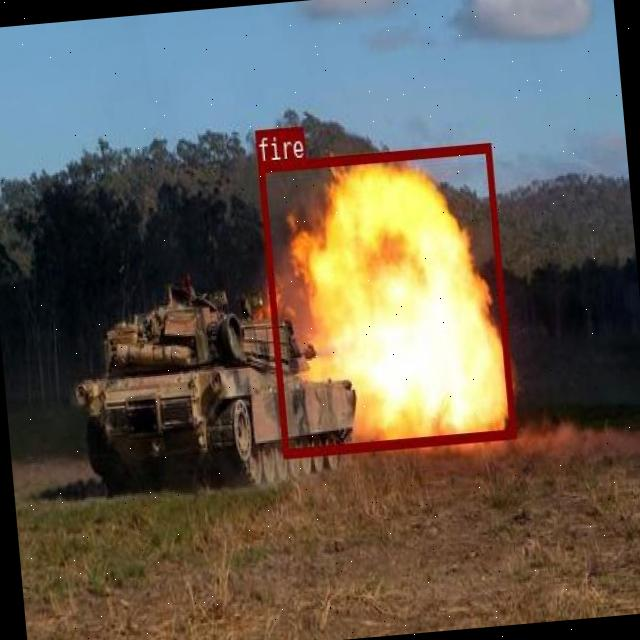fire: (256, 142, 515, 456)
